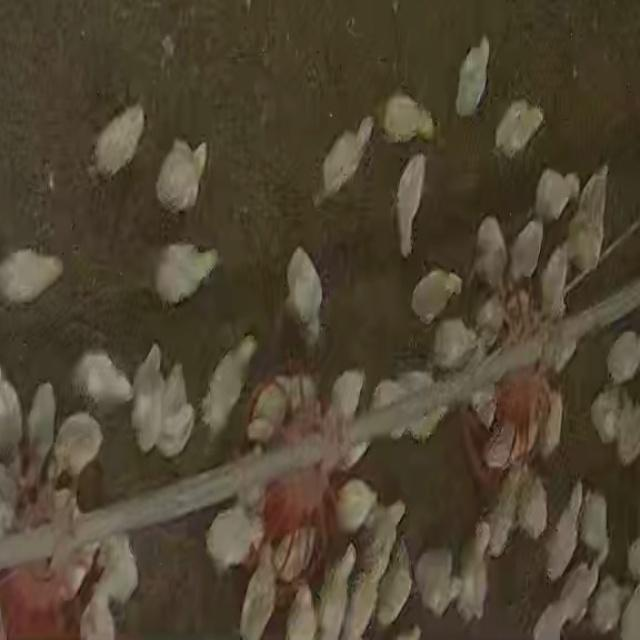chicken: (436, 316, 498, 428), (199, 333, 260, 440), (317, 118, 376, 207), (565, 162, 609, 275), (530, 562, 596, 635), (127, 336, 165, 453), (152, 241, 218, 308), (69, 348, 133, 417), (374, 372, 436, 443), (203, 501, 262, 575), (91, 103, 149, 178), (155, 138, 207, 218), (0, 246, 65, 308), (157, 360, 198, 458), (590, 382, 640, 462), (284, 245, 325, 342), (240, 542, 280, 640), (314, 542, 355, 636), (542, 484, 582, 579), (374, 538, 416, 628), (51, 411, 105, 480), (453, 526, 491, 622), (394, 152, 428, 258), (482, 469, 524, 554), (342, 551, 381, 635), (97, 535, 138, 614), (492, 99, 544, 160), (362, 499, 406, 571), (408, 268, 462, 326), (454, 34, 491, 118), (245, 377, 292, 443), (272, 524, 321, 585), (381, 91, 437, 144), (575, 486, 609, 572), (472, 215, 509, 294), (413, 547, 453, 619), (26, 379, 57, 465), (333, 477, 378, 534), (537, 243, 569, 321), (533, 167, 576, 224), (542, 318, 582, 378), (508, 219, 543, 287), (517, 476, 549, 548), (589, 575, 627, 633), (328, 368, 364, 428), (0, 371, 25, 455), (492, 336, 542, 378), (604, 330, 640, 387), (538, 386, 565, 460), (78, 588, 117, 638), (482, 418, 517, 471), (284, 585, 317, 639), (474, 295, 502, 340), (471, 519, 491, 567)
